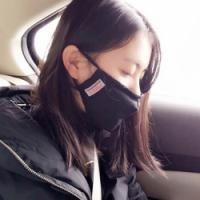WRONG: (70, 50, 150, 130)
